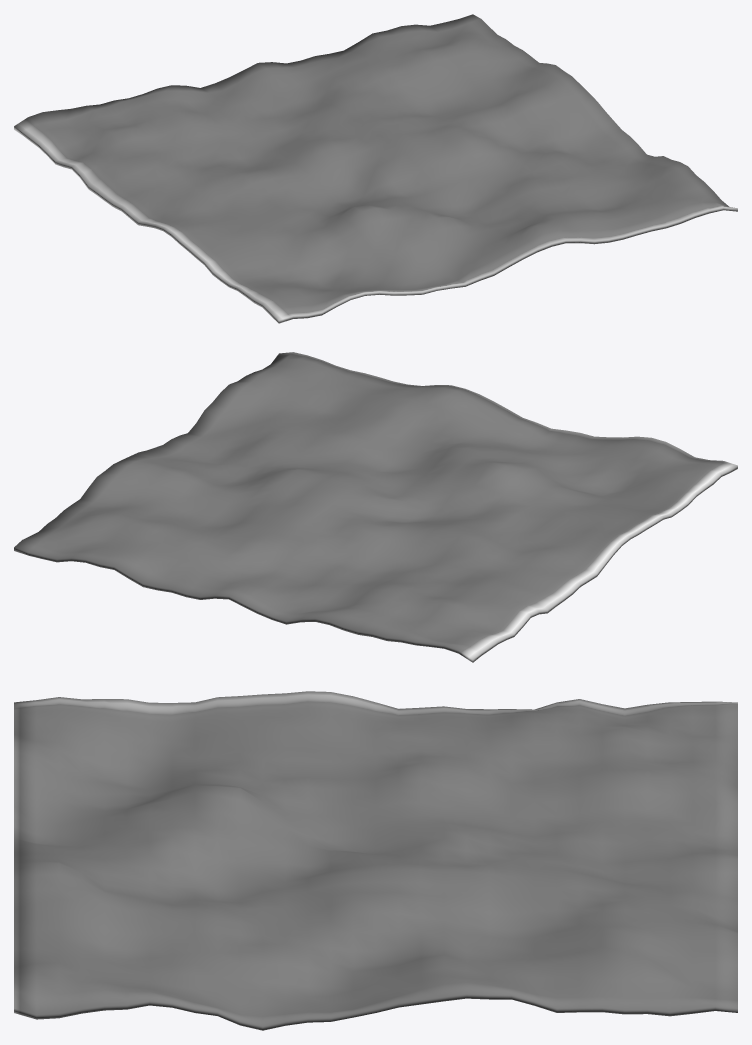
File: test_map.glb
3 renders of one model, top to bottom at view 1: azimuth 30°, elevation 25°; view 2: azimuth 150°, elevation 25°; view 3: azimuth 270°, elevation 25°, orthographic. The views are drawn at different scales.
Visible parts, largest first — view 1: Plane; view 2: Plane; view 3: Plane.
Part boxes in pixels (left/top/right/bottom): Plane: left=14, top=14, right=737, bottom=323; Plane: left=14, top=352, right=737, bottom=662; Plane: left=14, top=691, right=737, bottom=1030.
Size of the model in its own units: 400 by 29.98 by 400.
Materials: 1 (1 with a texture image).
